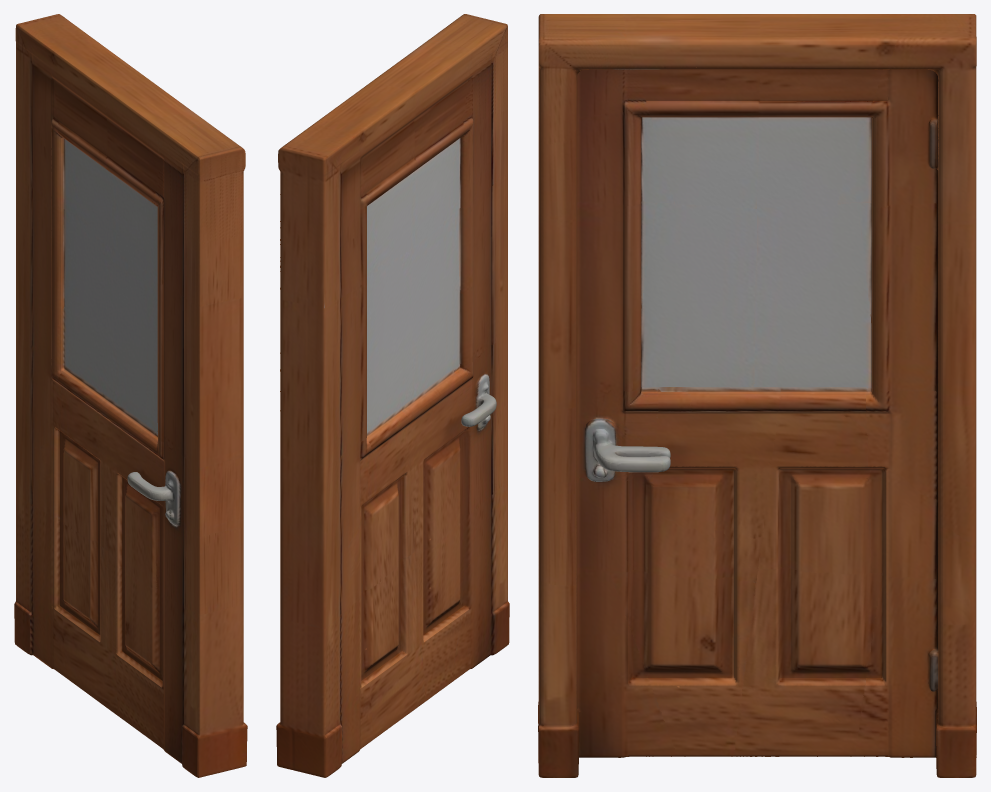
The model's file is puerta3dmodelo-v1.glb.
The picture shows the model from 3 angles, left to right: view 1: azimuth 30°, elevation 25°; view 2: azimuth 150°, elevation 25°; view 3: azimuth 270°, elevation 25°; orthographic projection. The views are drawn at different scales.
Visible parts, largest first — view 1: tripo_node_02657a06-ae7e-452b-9d2b-d1e835102708; view 2: tripo_node_02657a06-ae7e-452b-9d2b-d1e835102708; view 3: tripo_node_02657a06-ae7e-452b-9d2b-d1e835102708.
Boxes of the visible parts, <box> form: tripo_node_02657a06-ae7e-452b-9d2b-d1e835102708: <box>14,14,247,777</box>; tripo_node_02657a06-ae7e-452b-9d2b-d1e835102708: <box>276,14,509,777</box>; tripo_node_02657a06-ae7e-452b-9d2b-d1e835102708: <box>538,14,976,777</box>.
Bounding box in the file's own units: 0.1282 × 1 × 0.5395.
Materials: 1 (1 with a texture image).
